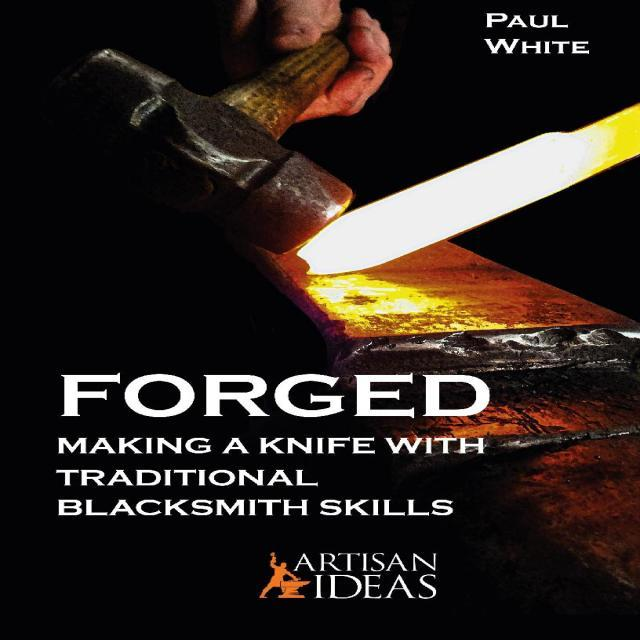hammer: (45, 22, 363, 266)
